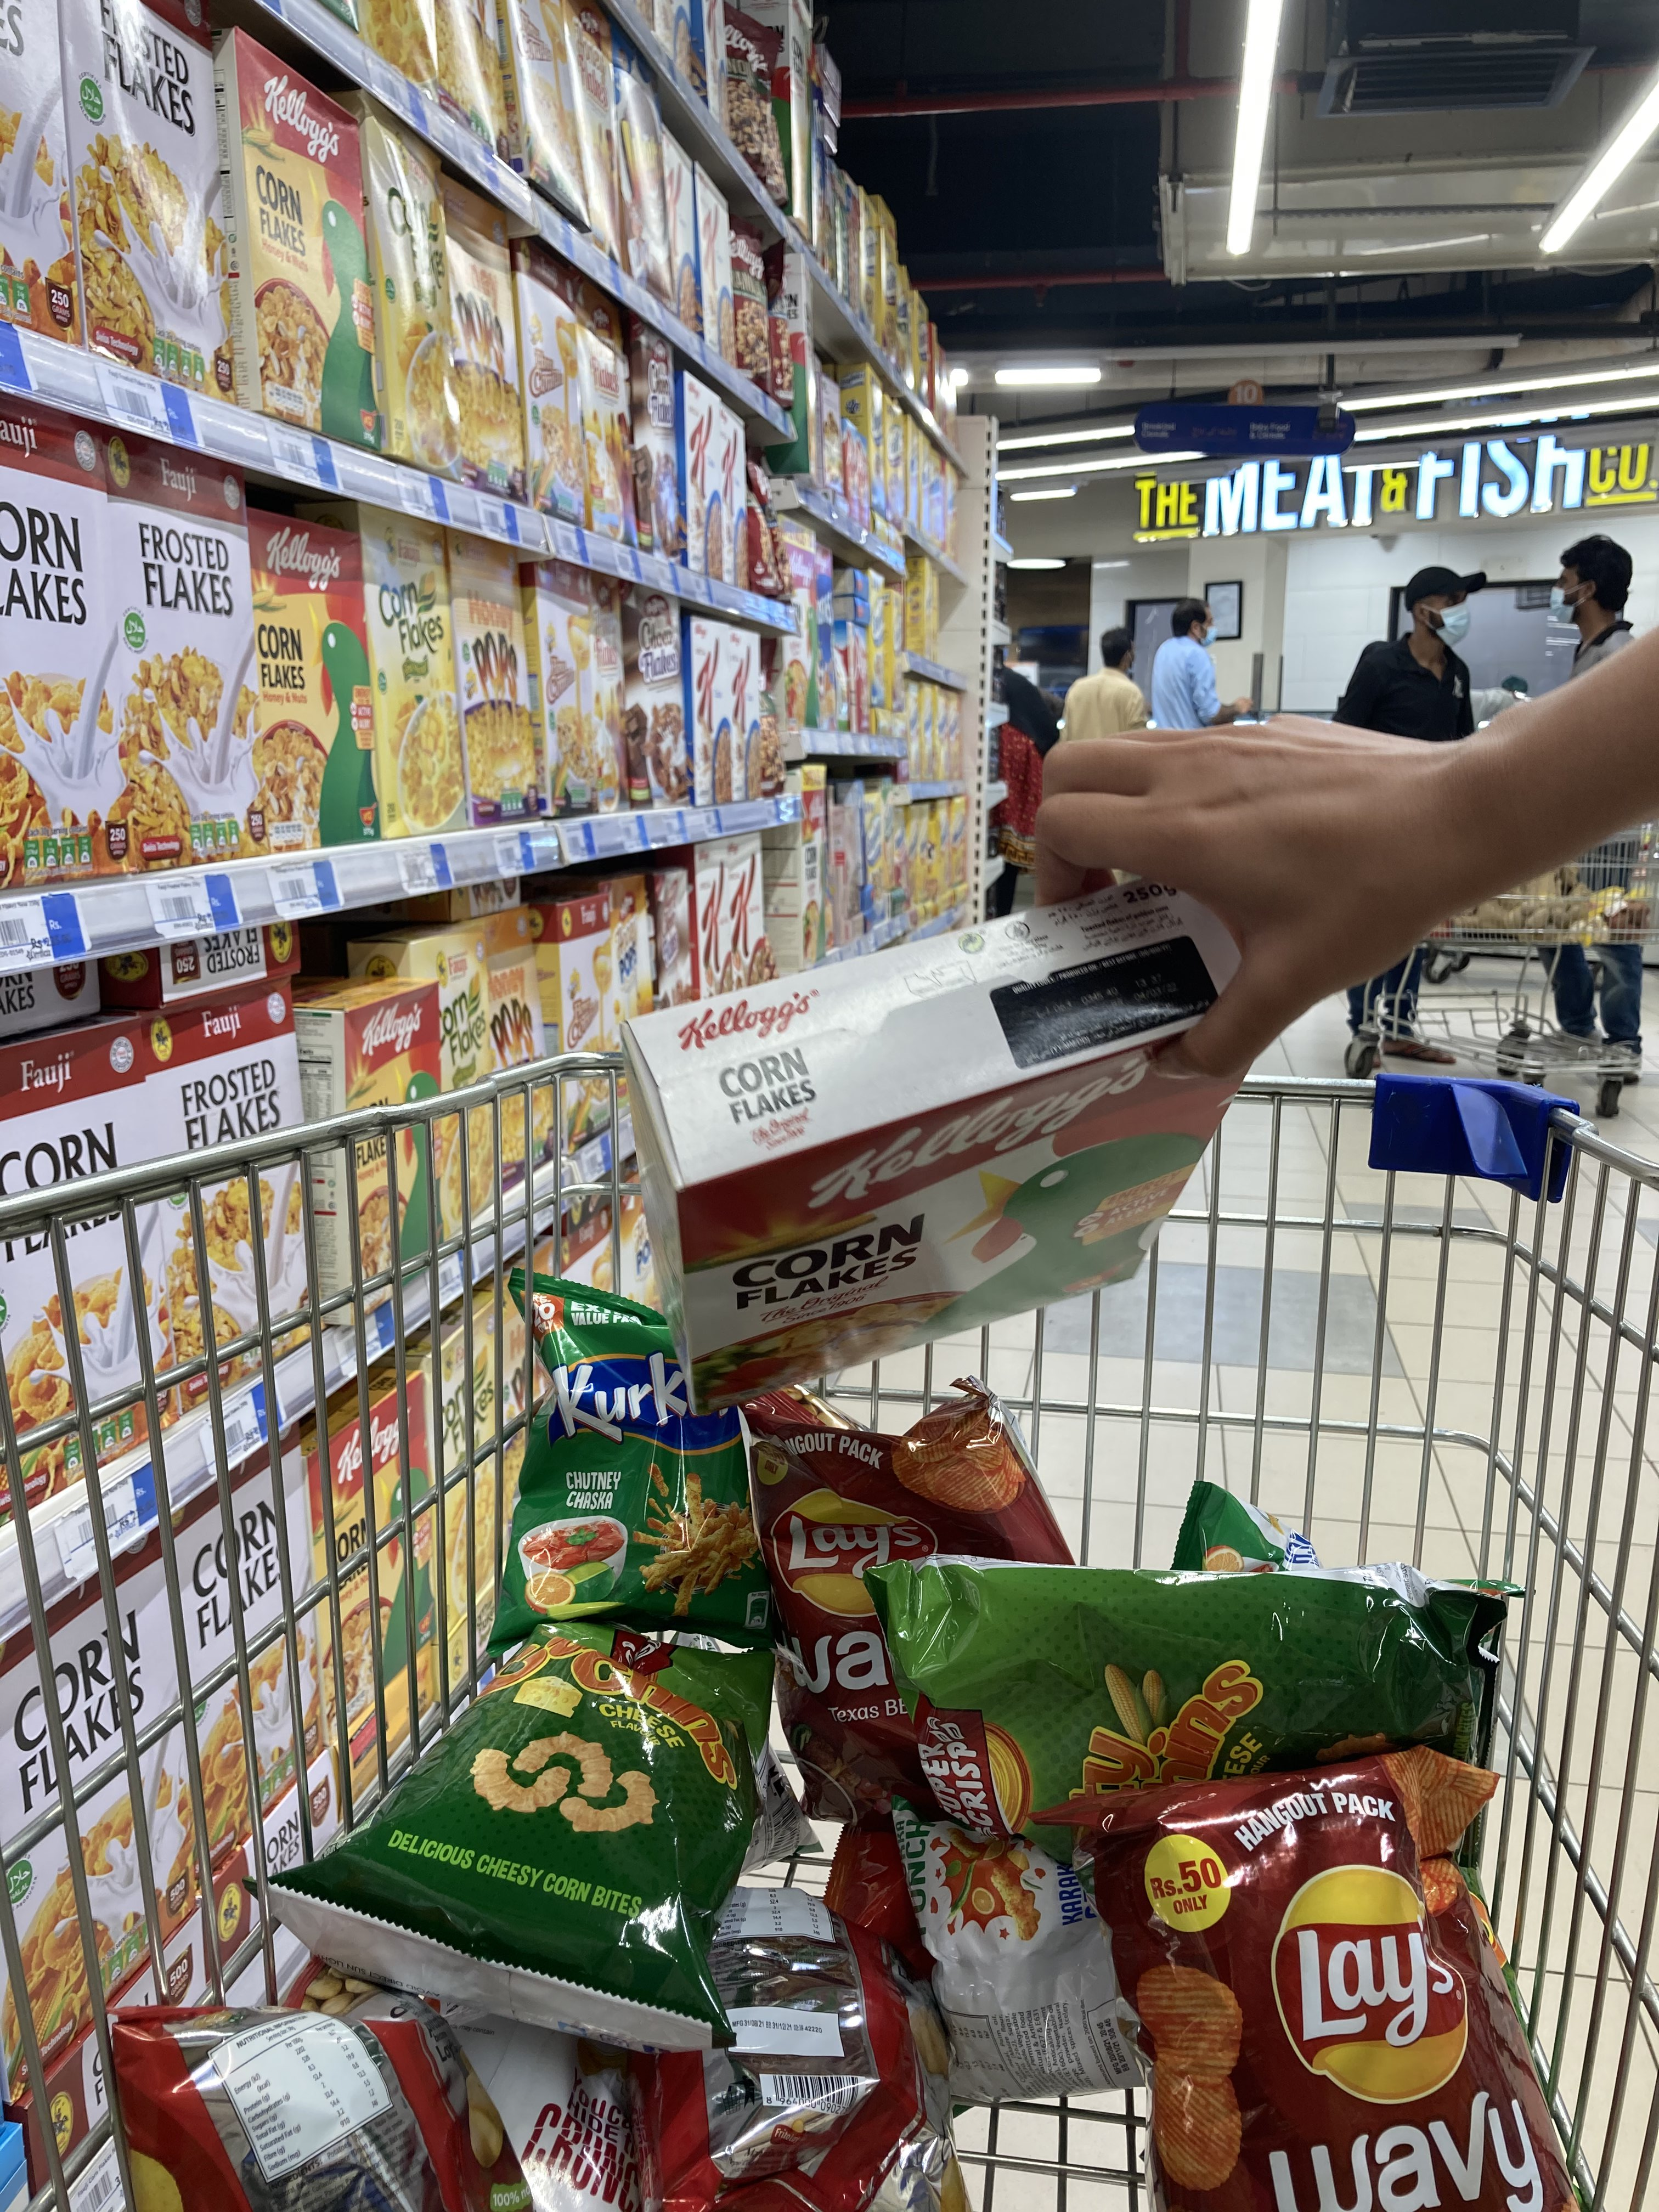Kellogg's Corn Flakes: (622, 887, 1215, 1418)
